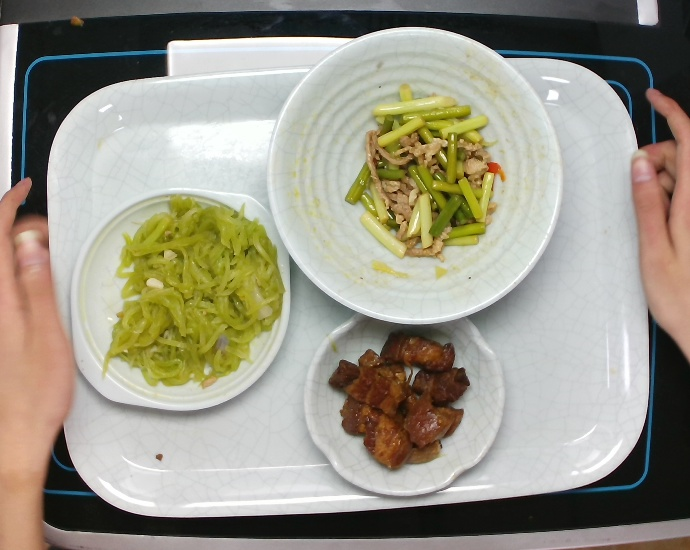JYsf-Ao_Yuan_Wan: (303, 310, 507, 500)
JYsf-Shuang_Er_Pan: (70, 183, 302, 415)
JYsf-Xiao_Tang_Wan: (269, 23, 561, 325)
